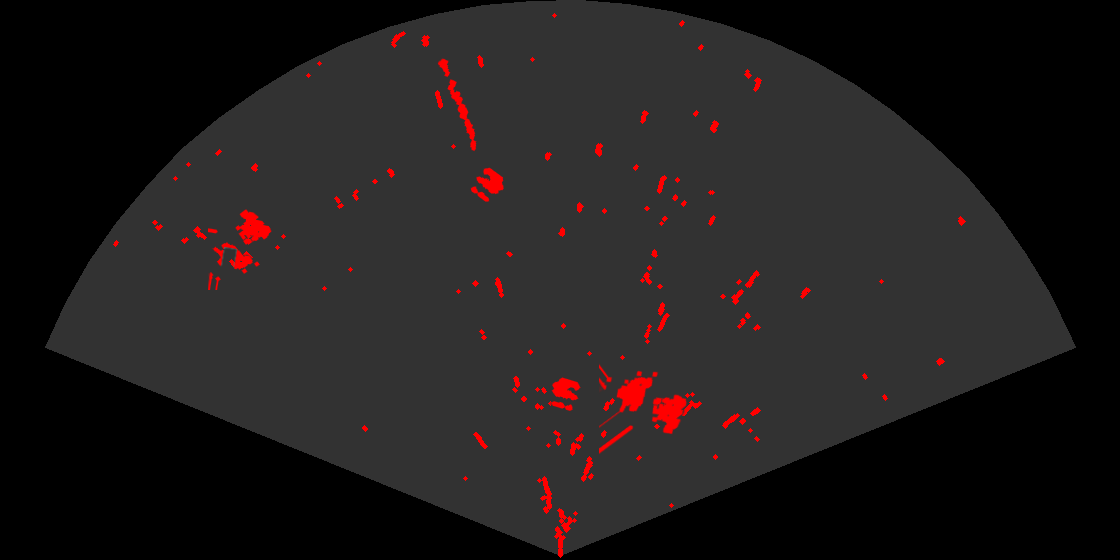ball: (469, 166, 505, 203), (550, 376, 582, 413)
cage: (599, 362, 688, 456), (208, 208, 273, 290)
chain: (436, 57, 478, 152)
